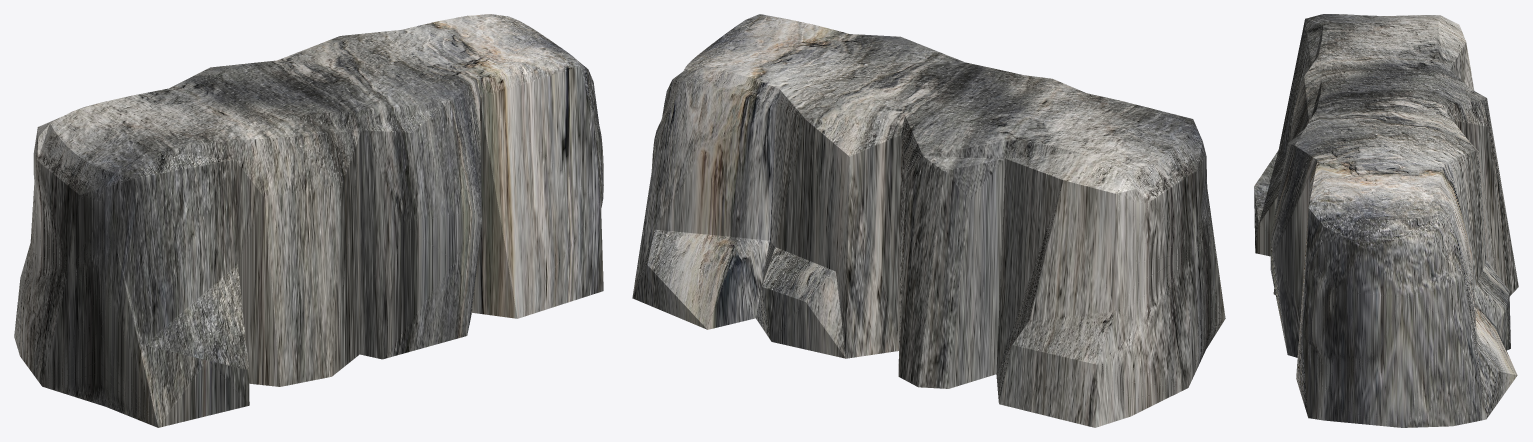
The model's file is PiedraCinco.fbx.
3 renders of one model, left to right at view 1: azimuth 30°, elevation 25°; view 2: azimuth 150°, elevation 25°; view 3: azimuth 270°, elevation 25°, orthographic. The views are drawn at different scales.
Parts seen in each view (by area): view 1: Montaña003; view 2: Montaña003; view 3: Montaña003.
Part boxes in pixels (x1=…): Montaña003: x1=14, y1=14, x2=603, y2=427; Montaña003: x1=632, y1=14, x2=1225, y2=427; Montaña003: x1=1254, y1=14, x2=1518, y2=427.
Size of the model in its own units: 2.79 by 1.24 by 1.36.
